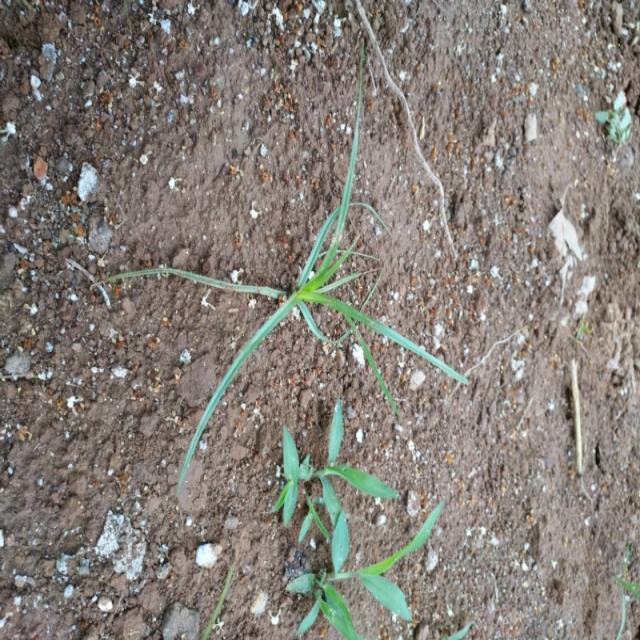sedge: (115, 157, 449, 435)
